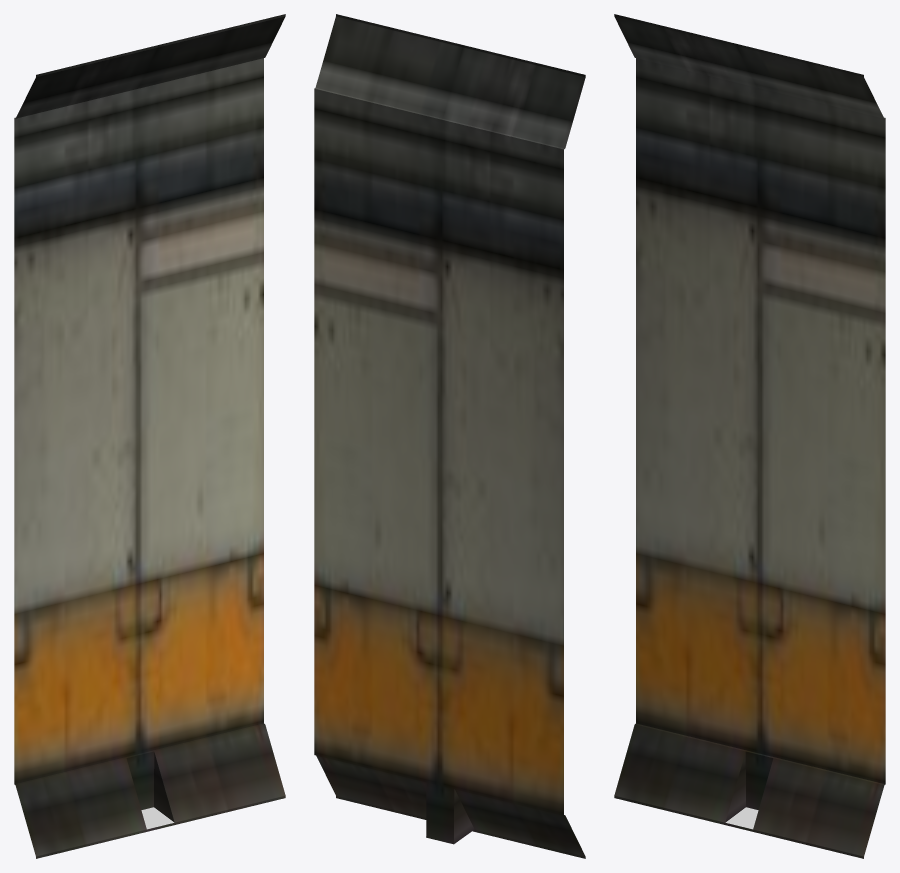
The model's file is wall_narrow_light.glb.
3 views of the same model, side by side, from view 1: azimuth 30°, elevation 25°; view 2: azimuth 150°, elevation 25°; view 3: azimuth 330°, elevation 25° (orthographic).
Parts seen in each view (by area): view 1: WallWithLight; view 2: WallWithLight; view 3: WallWithLight.
Boxes of the visible parts, x1=… form: WallWithLight: x1=14, y1=14, x2=285, y2=858; WallWithLight: x1=314, y1=14, x2=585, y2=858; WallWithLight: x1=614, y1=14, x2=885, y2=858.
Bounding box in the file's own units: 2 × 6 × 0.3.
2 materials, 1 textured.
